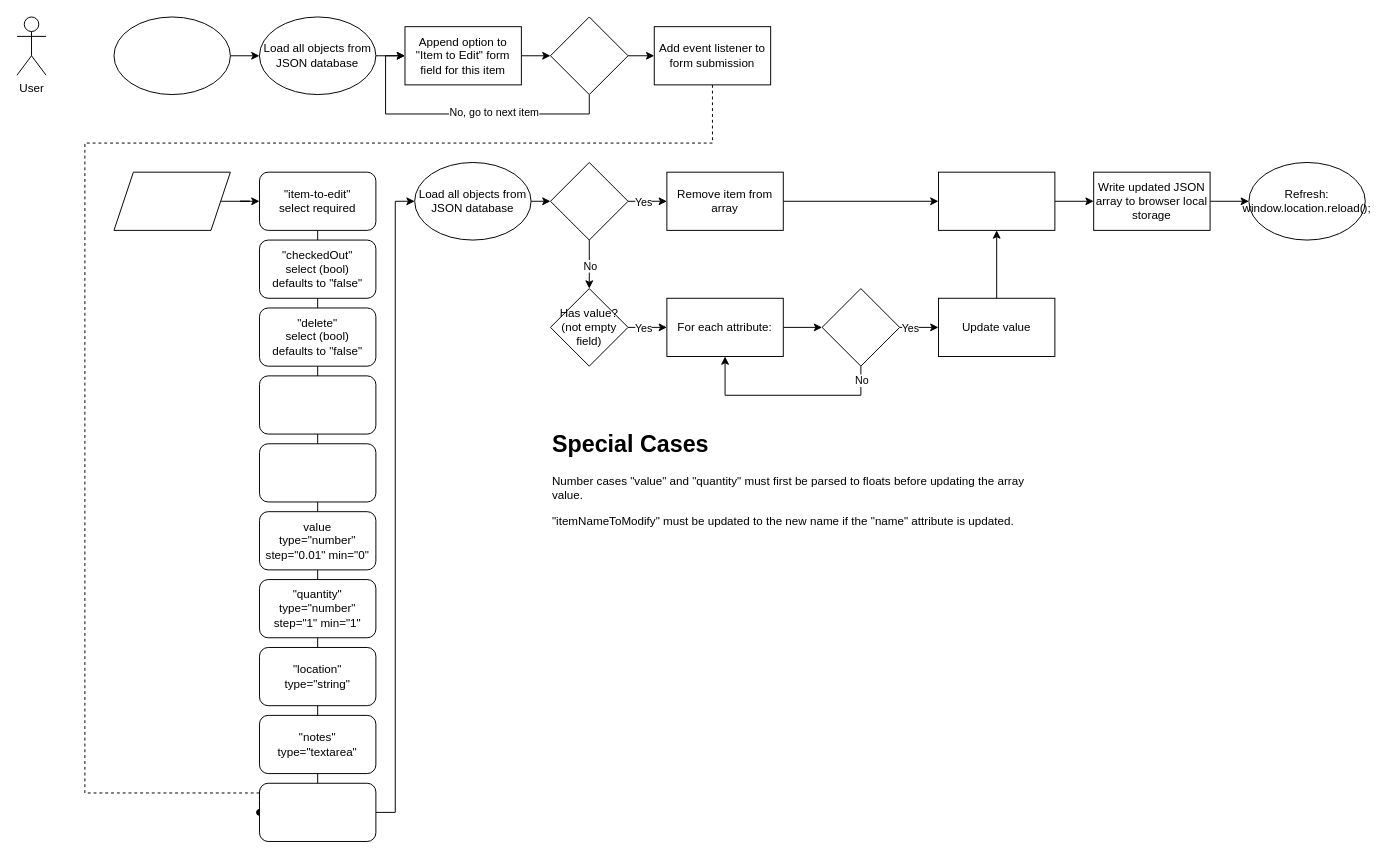
Image size: 1388x858. Some labels were removed from this diagram. The shapes that lost their labels are listed below. From the top down, each one's centre as x and y in pixels, then its label:
(171,55): Edit Section
(589,55): Last item?
(171,200): User fills in form
(589,201): Is key:value pair "delete":"true"?
(996,200): Sort items by key "name"
(860,327): attribute is attribute to edit?
(317,404): "name" type="text"
(317,472): "condition" select
(317,811): "submit" button type="submit"
